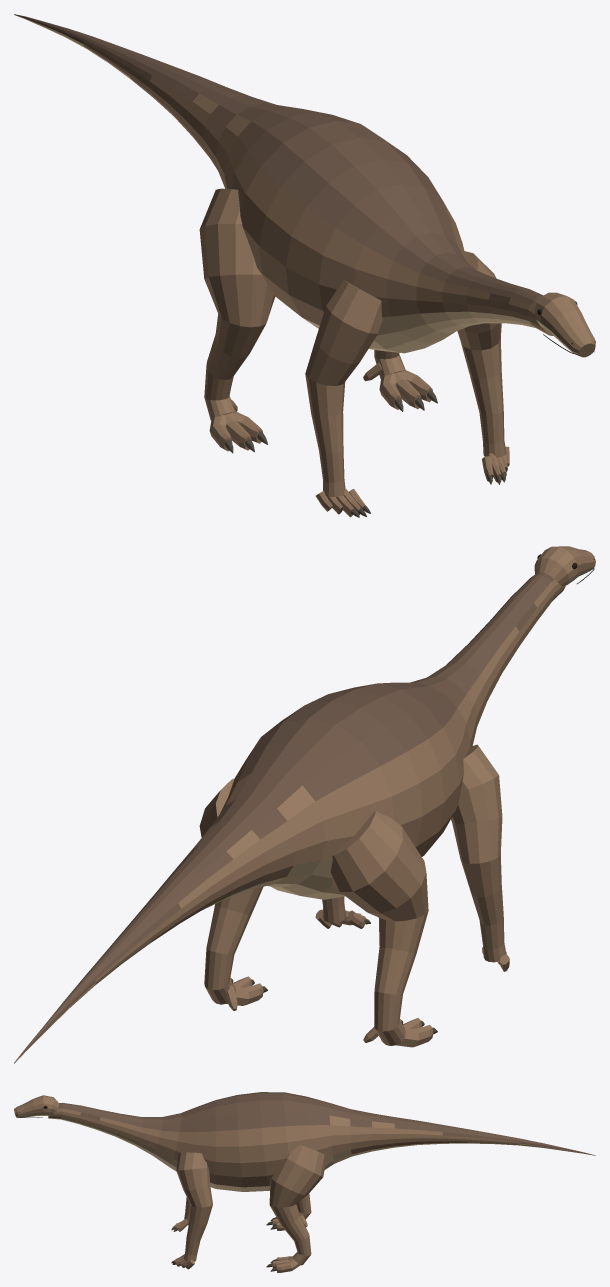
3 views of the same model, one above another, from view 1: azimuth 30°, elevation 25°; view 2: azimuth 150°, elevation 25°; view 3: azimuth 270°, elevation 25° (orthographic). The views are drawn at different scales.
Visible parts, largest first — view 1: continuous-neck-deep-trunk-full-tail, right-robust-hindlimb-pes, right-supporting-forelimb-oblique-manus, left-supporting-forelimb-oblique-manus, small-elongate-sloping-head, left-robust-hindlimb-pes, short-keratin-digit-tips; view 2: continuous-neck-deep-trunk-full-tail, right-robust-hindlimb-pes, right-supporting-forelimb-oblique-manus, left-robust-hindlimb-pes, small-elongate-sloping-head, left-supporting-forelimb-oblique-manus; view 3: continuous-neck-deep-trunk-full-tail, left-robust-hindlimb-pes, left-supporting-forelimb-oblique-manus, small-elongate-sloping-head, right-robust-hindlimb-pes.
Boxes of the visible parts, x1,y1,x2,y2 form: continuous-neck-deep-trunk-full-tail: (14,14,553,353); right-robust-hindlimb-pes: (199,188,275,451); right-supporting-forelimb-oblique-manus: (305,280,382,517); left-supporting-forelimb-oblique-manus: (457,251,509,482); small-elongate-sloping-head: (534,292,595,357); left-robust-hindlimb-pes: (363,350,432,409); short-keratin-digit-tips: (224,390,505,517); continuous-neck-deep-trunk-full-tail: (14,572,565,1063); right-robust-hindlimb-pes: (330,810,433,1047); right-supporting-forelimb-oblique-manus: (451,744,509,971); left-robust-hindlimb-pes: (199,778,263,1010); small-elongate-sloping-head: (534,546,595,586); left-supporting-forelimb-oblique-manus: (315,896,365,928); continuous-neck-deep-trunk-full-tail: (48,1092,595,1191); left-robust-hindlimb-pes: (269,1144,326,1272); left-supporting-forelimb-oblique-manus: (174,1152,212,1269); small-elongate-sloping-head: (14,1095,58,1117); right-robust-hindlimb-pes: (272,1193,311,1230).
Bounding box in the file's own units: 1.11 × 1.5 × 5.2.
